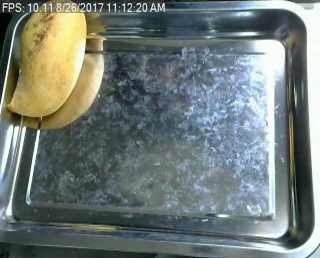Mango: (9, 0, 88, 120)
